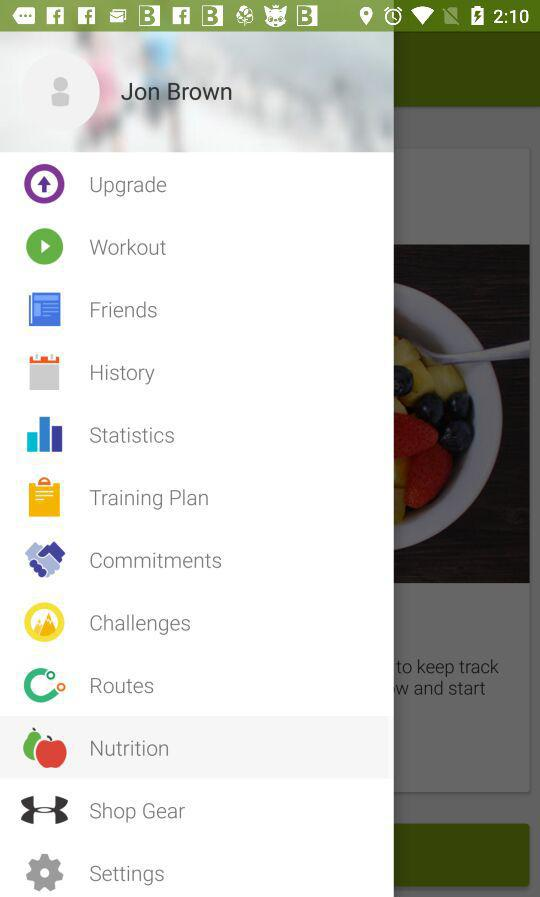Drawer: (1, 32, 394, 897)
Icon: (19, 51, 101, 133), (24, 164, 66, 204), (26, 853, 65, 892), (26, 228, 65, 266)
Image: (23, 727, 69, 769), (24, 602, 66, 643), (25, 541, 67, 579), (24, 668, 67, 704), (21, 795, 70, 825), (27, 416, 64, 453), (29, 477, 62, 518), (29, 292, 63, 327), (29, 354, 61, 391)
Text: (89, 488, 209, 511), (90, 552, 223, 570), (90, 613, 192, 636), (121, 82, 233, 102), (90, 801, 186, 824), (90, 176, 168, 198), (90, 865, 165, 886), (90, 427, 176, 445), (91, 739, 170, 758), (91, 364, 156, 386), (90, 239, 168, 257), (91, 300, 159, 320), (91, 677, 155, 695)
UpperTaskBar: (1, 1, 540, 33)
